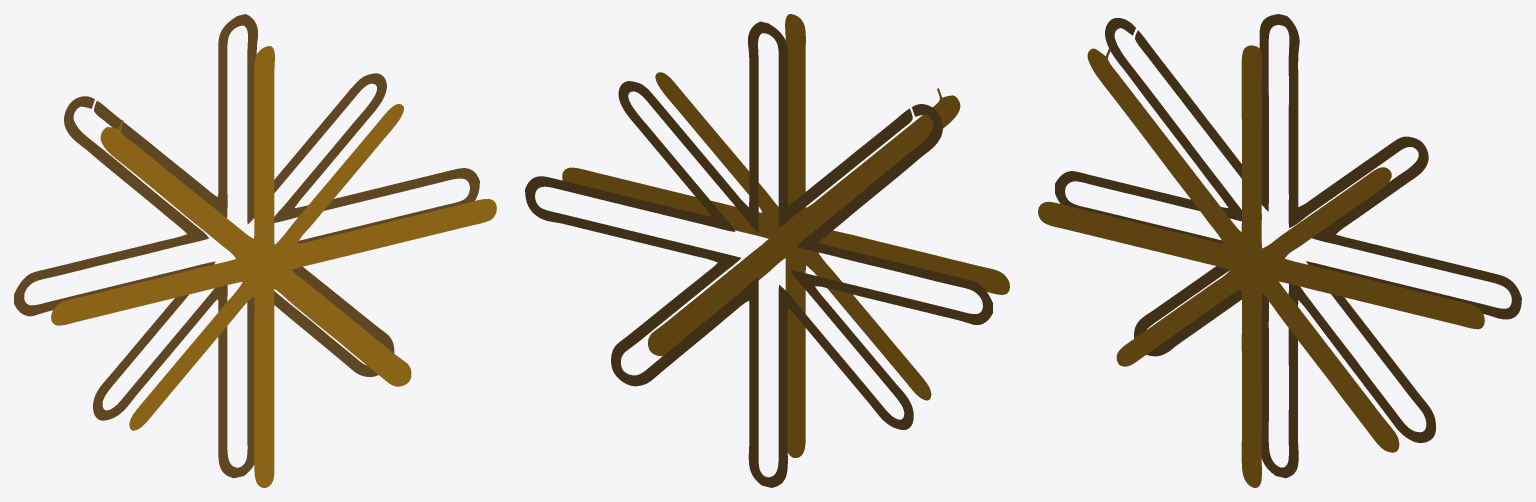
The model's file is 085_star.gltf.
The picture shows the model from 3 angles, left to right: view 1: azimuth 30°, elevation 25°; view 2: azimuth 150°, elevation 25°; view 3: azimuth 330°, elevation 25°; orthographic projection.
Visible parts, largest first — view 1: Curve.001, Curve; view 2: Curve, Curve.001; view 3: Curve.001, Curve.
Part boxes in pixels (x1,y1,x2,y2): Curve.001: [51, 46, 496, 487]; Curve: [14, 14, 479, 478]; Curve: [525, 21, 992, 487]; Curve.001: [562, 14, 1009, 457]; Curve.001: [1038, 45, 1484, 487]; Curve: [1055, 14, 1521, 478].
Size of the model in its own units: 0.0998 by 0.0945 by 0.01.
